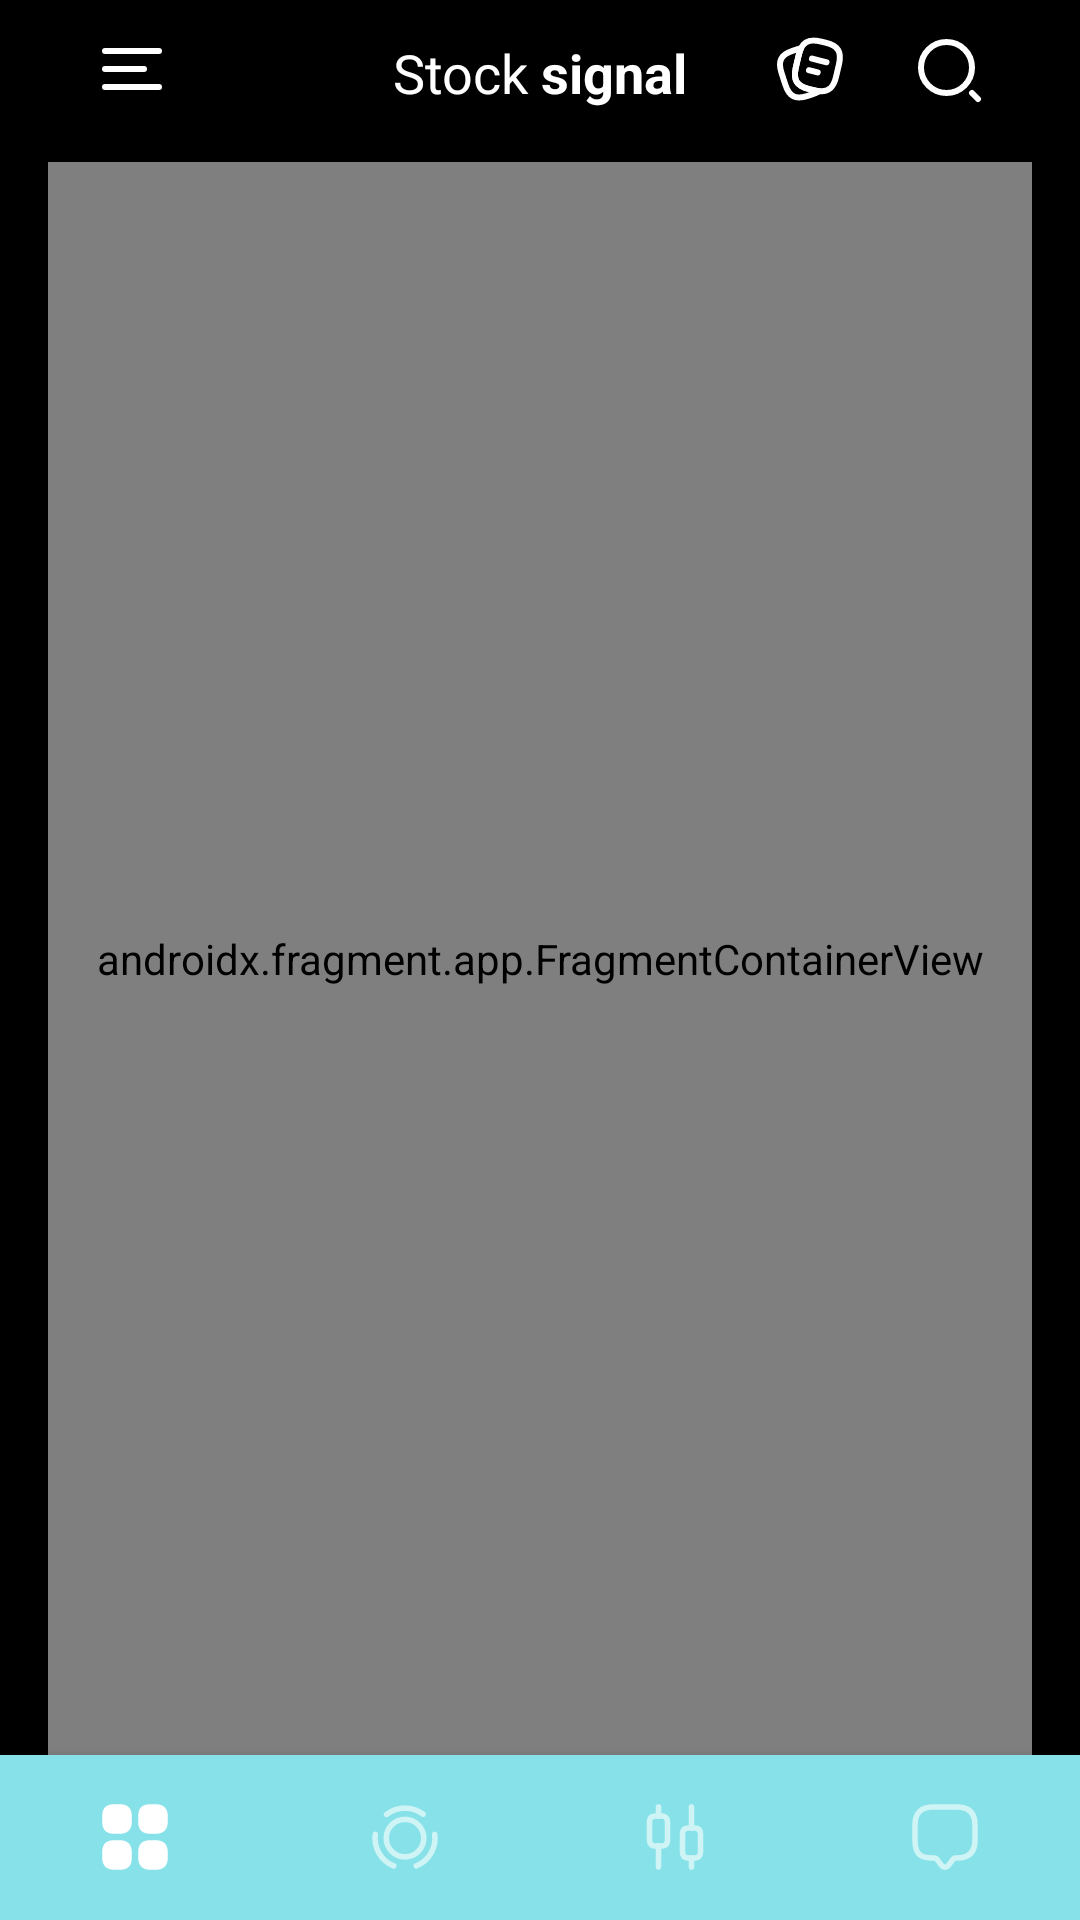

Named icons in this screenshot (1080 x 1920) and their centers, [x,y]:
menu: [132,69]
search: [949,70]
